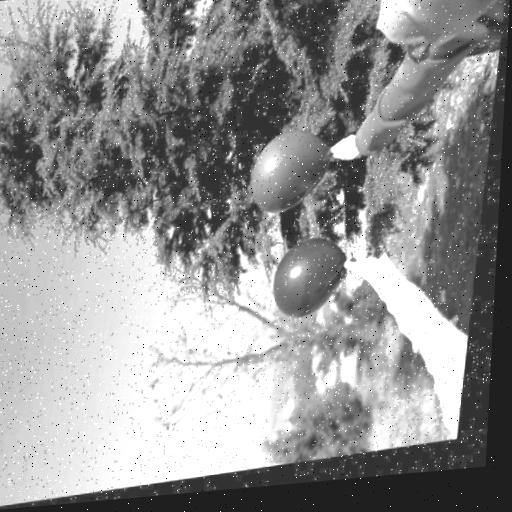balloon: (272, 232, 357, 331), (247, 129, 334, 219)
